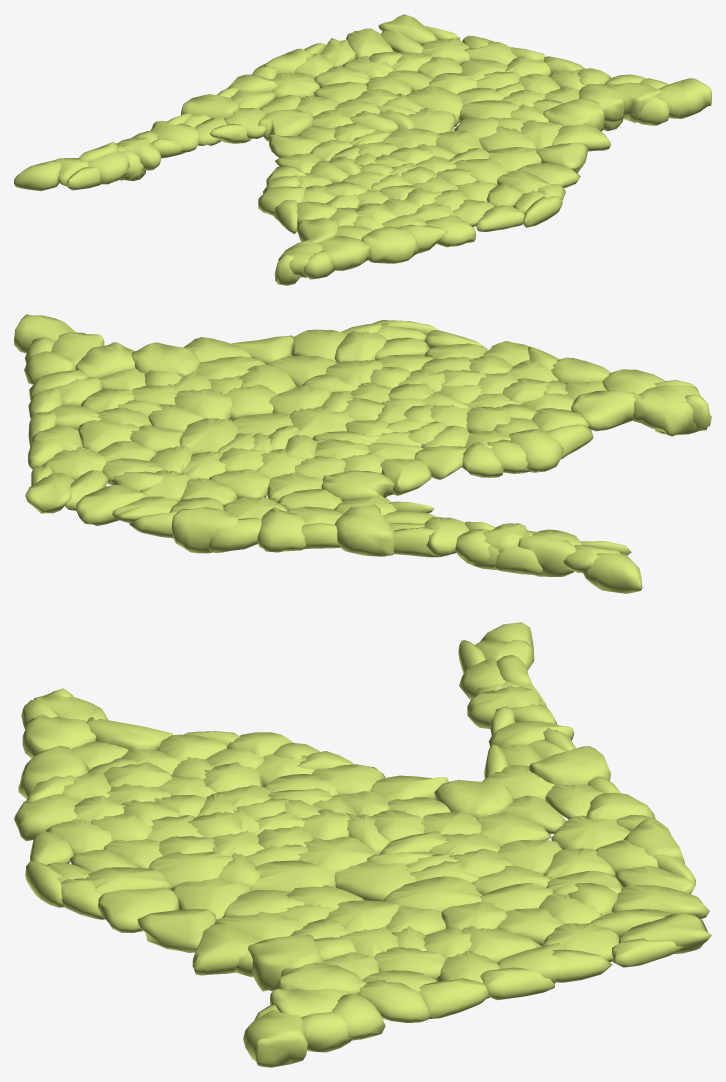
File: Islands4.003_fog.fbx
3 views of the same model, one above another, from view 1: azimuth 30°, elevation 25°; view 2: azimuth 150°, elevation 25°; view 3: azimuth 270°, elevation 25° (orthographic). The views are drawn at different scales.
Parts seen in each view (by area): view 1: Island4.003_fog_cell.054, Island4.003_fog_cell.064, Island4.003_fog_cell.135, Island4.003_fog_cell.104, Island4.003_fog_cell.082, Island4.003_fog_cell.075, Island4.003_fog_cell.040, Island4.003_fog_cell.047, Island4.003_fog_cell.132, Island4.003_fog_cell.067, Island4.003_fog_cell.129, Island4.003_fog_cell.014 (+86 smaller); view 2: Island4.003_fog_cell.138, Island4.003_fog_cell.047, Island4.003_fog_cell.046, Island4.003_fog_cell.085, Island4.003_fog_cell.067, Island4.003_fog_cell.055, Island4.003_fog_cell.149, Island4.003_fog_cell.082, Island4.003_fog_cell.135, Island4.003_fog_cell.121, Island4.003_fog_cell.040, Island4.003_fog_cell.146 (+110 smaller); view 3: Island4.003_fog_cell.064, Island4.003_fog_cell.135, Island4.003_fog_cell.132, Island4.003_fog_cell.117, Island4.003_fog_cell.040, Island4.003_fog_cell.129, Island4.003_fog_cell.082, Island4.003_fog_cell.030, Island4.003_fog_cell.047, Island4.003_fog_cell.104, Island4.003_fog_cell.149, Island4.003_fog_cell.120 (+103 smaller).
Part boxes in pixels (bbox=[...]): Island4.003_fog_cell.054: bbox=[361, 226, 418, 263]; Island4.003_fog_cell.064: bbox=[658, 78, 711, 118]; Island4.003_fog_cell.135: bbox=[543, 98, 604, 131]; Island4.003_fog_cell.104: bbox=[318, 235, 370, 270]; Island4.003_fog_cell.082: bbox=[258, 109, 313, 141]; Island4.003_fog_cell.075: bbox=[579, 83, 625, 122]; Island4.003_fog_cell.040: bbox=[406, 86, 462, 127]; Island4.003_fog_cell.047: bbox=[181, 94, 240, 118]; Island4.003_fog_cell.132: bbox=[536, 142, 588, 173]; Island4.003_fog_cell.067: bbox=[14, 160, 61, 191]; Island4.003_fog_cell.129: bbox=[552, 123, 610, 151]; Island4.003_fog_cell.014: bbox=[425, 214, 475, 247]; Island4.003_fog_cell.138: bbox=[633, 385, 700, 436]; Island4.003_fog_cell.047: bbox=[335, 504, 394, 556]; Island4.003_fog_cell.046: bbox=[171, 507, 238, 553]; Island4.003_fog_cell.085: bbox=[571, 390, 641, 431]; Island4.003_fog_cell.067: bbox=[582, 553, 642, 593]; Island4.003_fog_cell.055: bbox=[257, 507, 306, 552]; Island4.003_fog_cell.149: bbox=[76, 485, 148, 525]; Island4.003_fog_cell.082: bbox=[321, 470, 394, 501]; Island4.003_fog_cell.135: bbox=[131, 342, 200, 376]; Island4.003_fog_cell.121: bbox=[509, 429, 563, 472]; Island4.003_fog_cell.040: bbox=[179, 418, 238, 453]; Island4.003_fog_cell.146: bbox=[518, 535, 575, 576]; Island4.003_fog_cell.064: bbox=[243, 1010, 307, 1067]; Island4.003_fog_cell.135: bbox=[248, 934, 323, 991]; Island4.003_fog_cell.132: bbox=[137, 908, 216, 952]; Island4.003_fog_cell.117: bbox=[98, 887, 179, 932]; Island4.003_fog_cell.040: bbox=[383, 876, 482, 912]; Island4.003_fog_cell.129: bbox=[192, 924, 260, 975]; Island4.003_fog_cell.082: bbox=[434, 777, 513, 818]; Island4.003_fog_cell.030: bbox=[334, 861, 416, 901]; Island4.003_fog_cell.047: bbox=[529, 746, 610, 785]; Island4.003_fog_cell.104: bbox=[22, 714, 95, 758]; Island4.003_fog_cell.149: bbox=[611, 884, 709, 919]; Island4.003_fog_cell.120: bbox=[619, 913, 711, 953].
Size of the model in its own units: 236 by 12.49 by 162.
